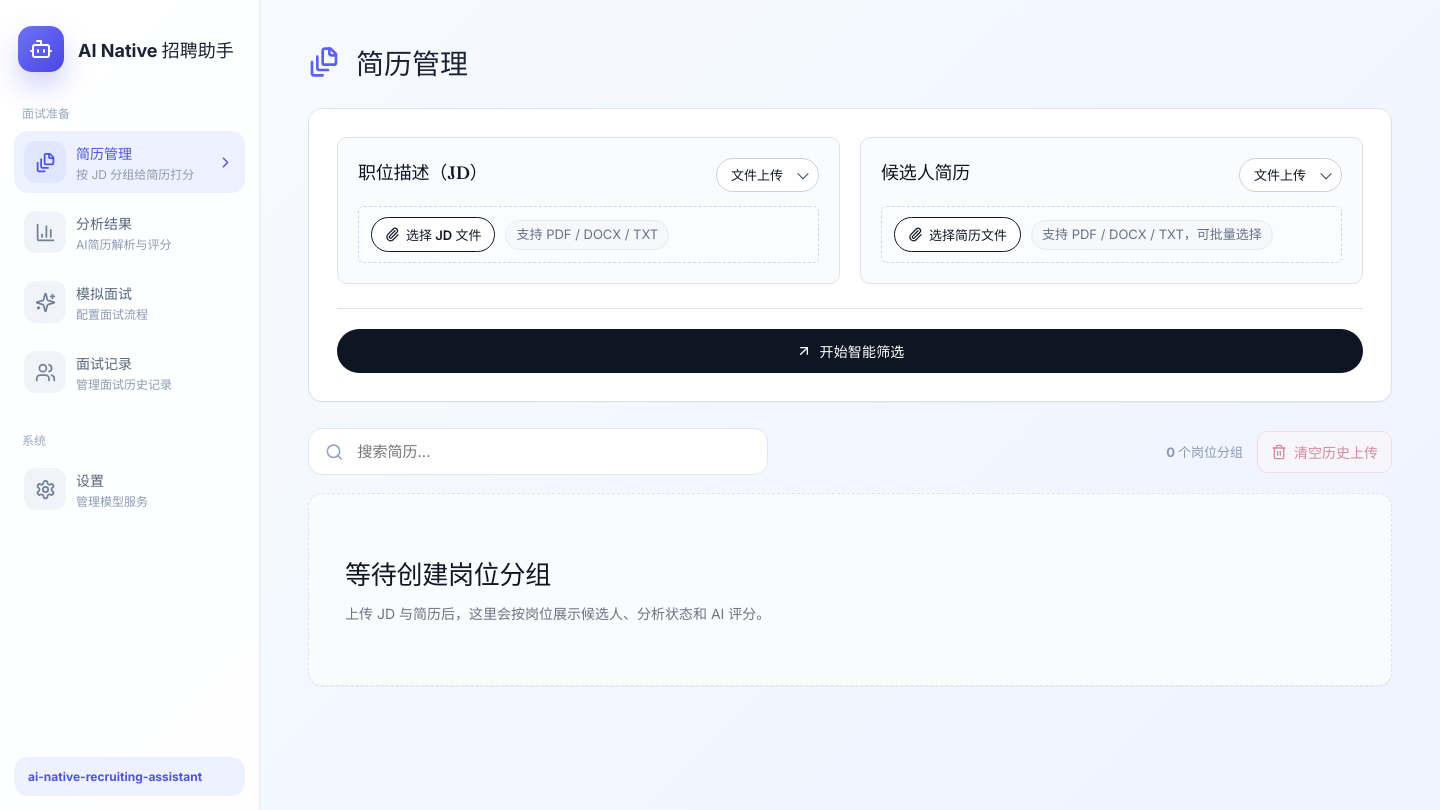
Test: App › shows analysis results as a separate workspace with an empty waiting state
The image size is (1440, 810).
Click the button "分析结果 AI简历解析与评分".
click(130, 232)  # box [14,201,245,263]
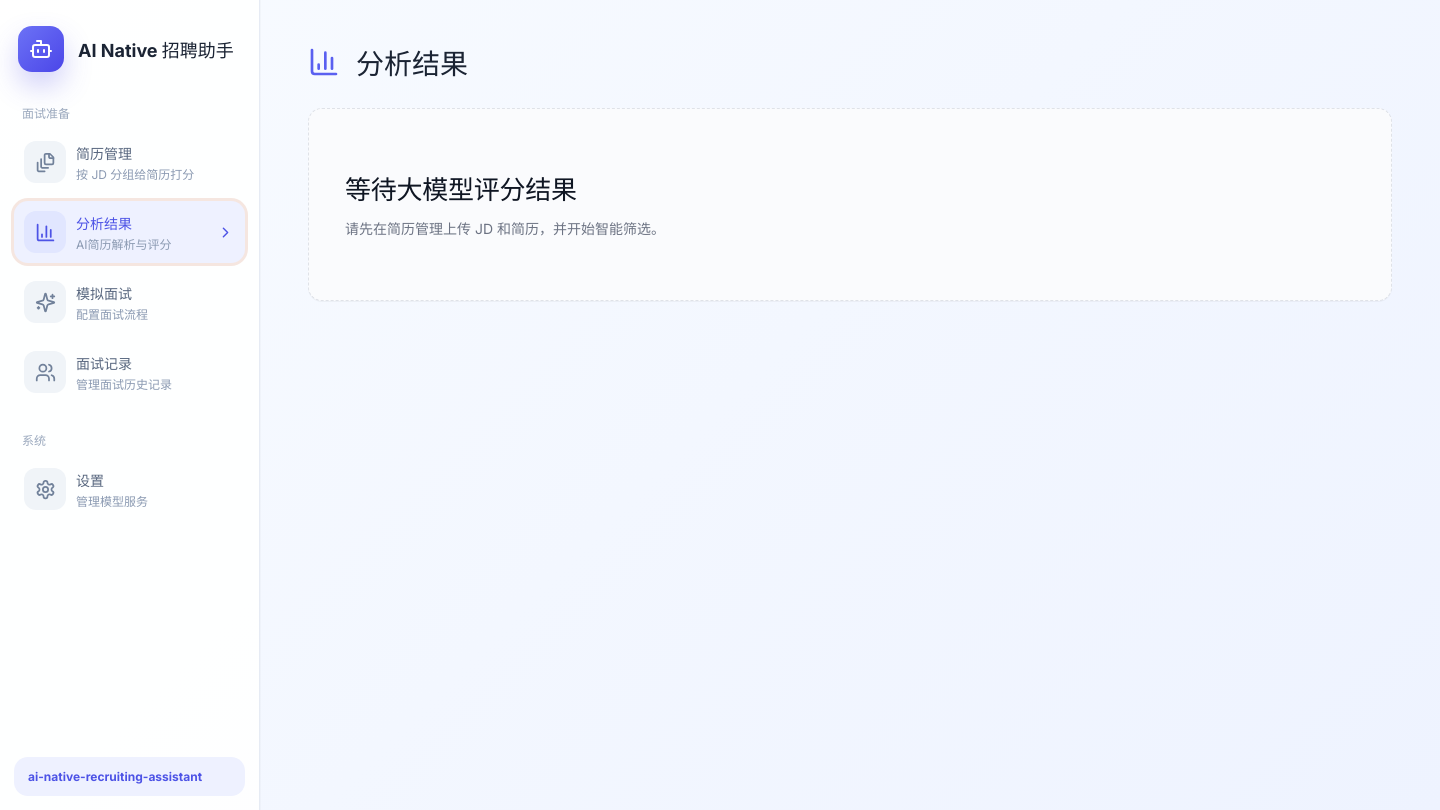
Expected: the heading "分析结果" is shown, [356,42,468,82]
Expected: the heading "等待大模型评分结果" is shown, [345,169,577,206]
Expected: the text "请先在简历管理上传 JD 和简历，并开始智能筛选。" is shown, [345,218,665,240]
